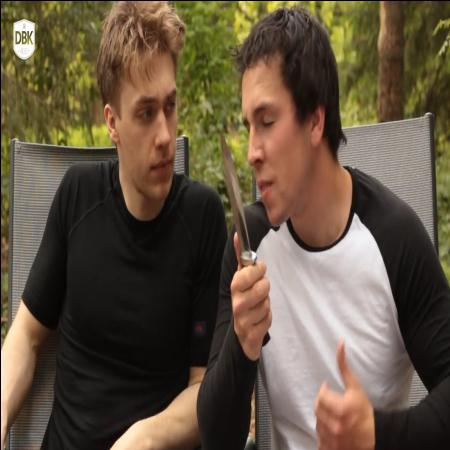long weapon: (214, 116, 274, 336)
